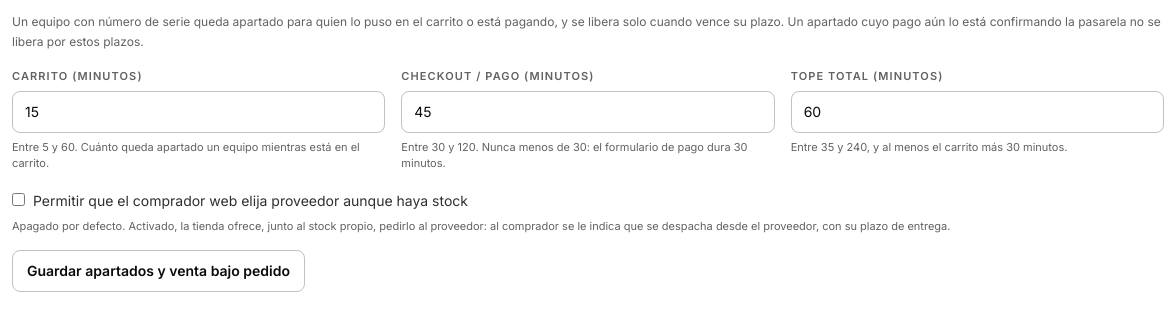
Test case: saving sends the four fields as numbers and a boolean, to this company
Step 1. Replace the text in the number field labelled "Carrito (minutos)" with "20" → [199, 112], box [12,90,385,132]
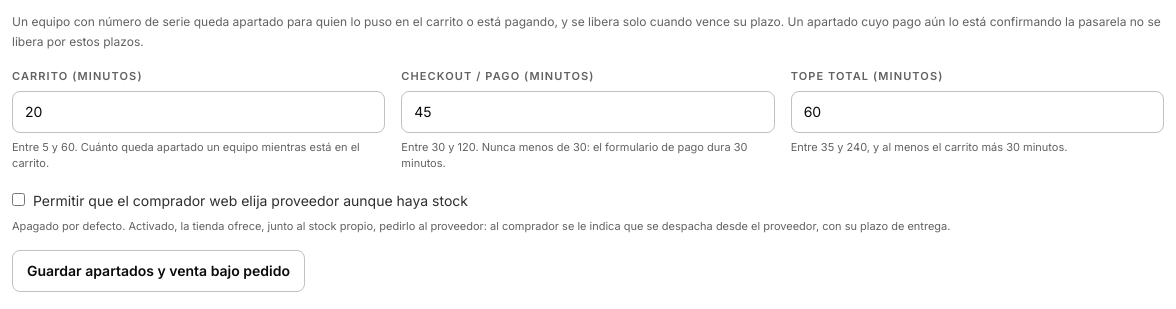
Step 2. Replace the text in the number field labelled "Checkout / pago (minutos)" with "60" → [588, 112], box [401,90,775,132]
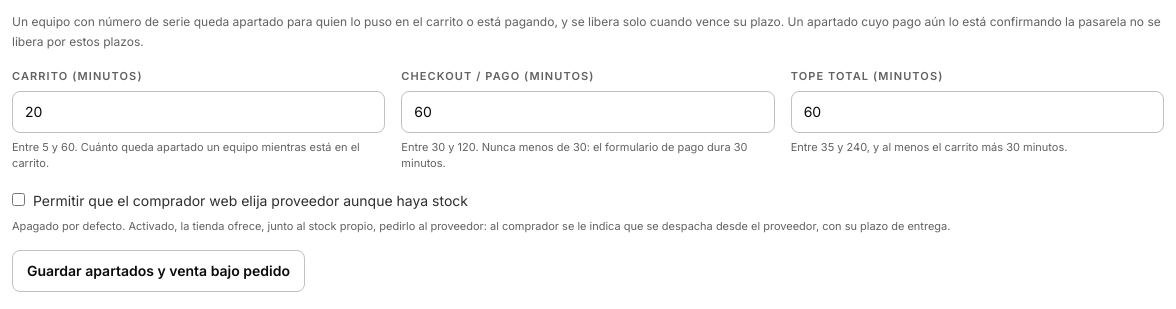
Step 3. Replace the text in the number field labelled "Tope total (minutos)" with "90" → [977, 112], box [791,90,1164,132]
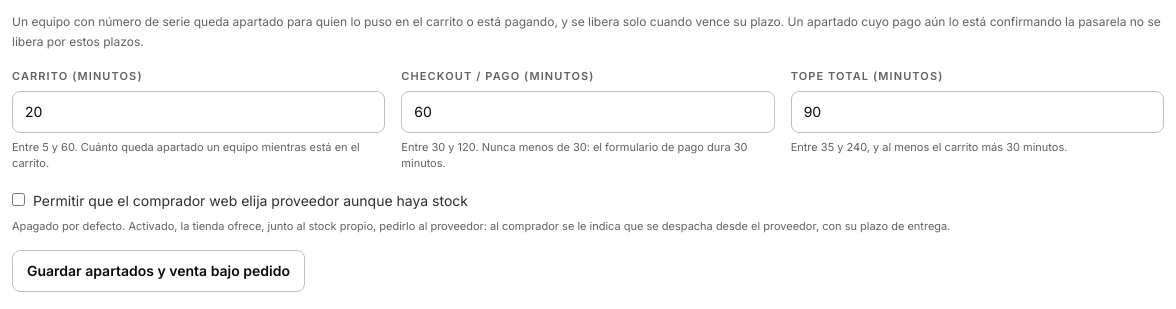
Step 4. Click the checkbox labelled "Permitir que el comprador web elija proveedor aunque haya stock" → [18, 199], box [12,192,25,206]
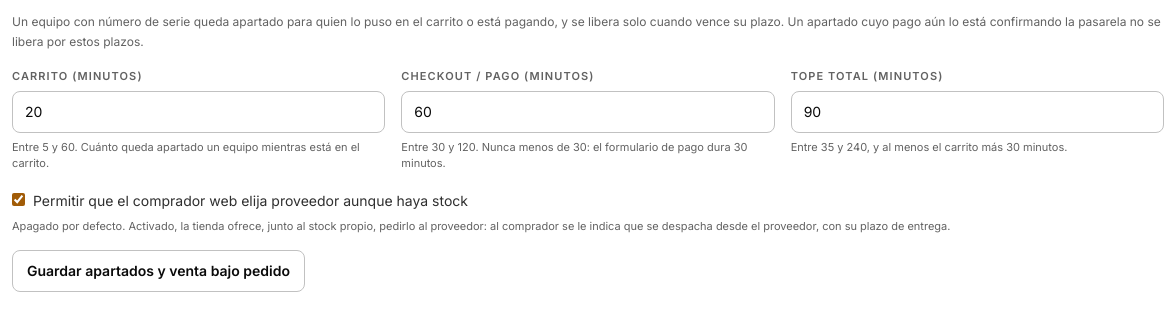
Step 5. Click the button "Guardar apartados y venta bajo pedido" → [158, 271], box [12,250,305,292]
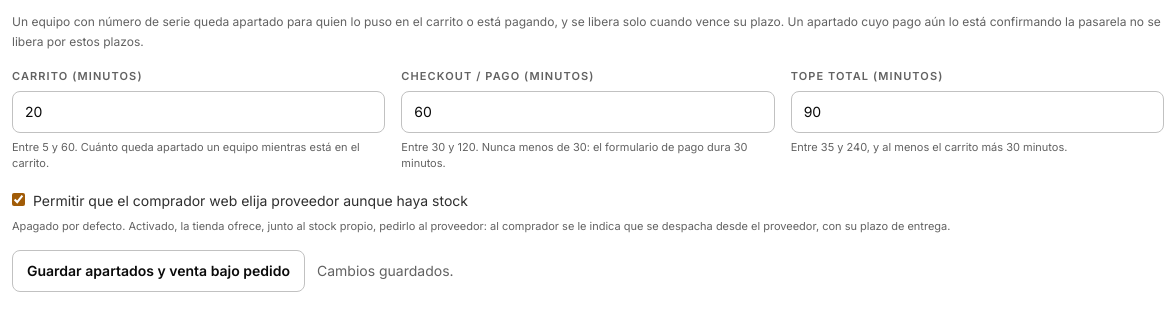
Check: the checkbox labelled "Permitir que el comprador web elija proveedor aunque haya stock" is checked, box [12,192,25,206]
Check: the text "Cambios guardados." is shown, box [317,261,454,281]
